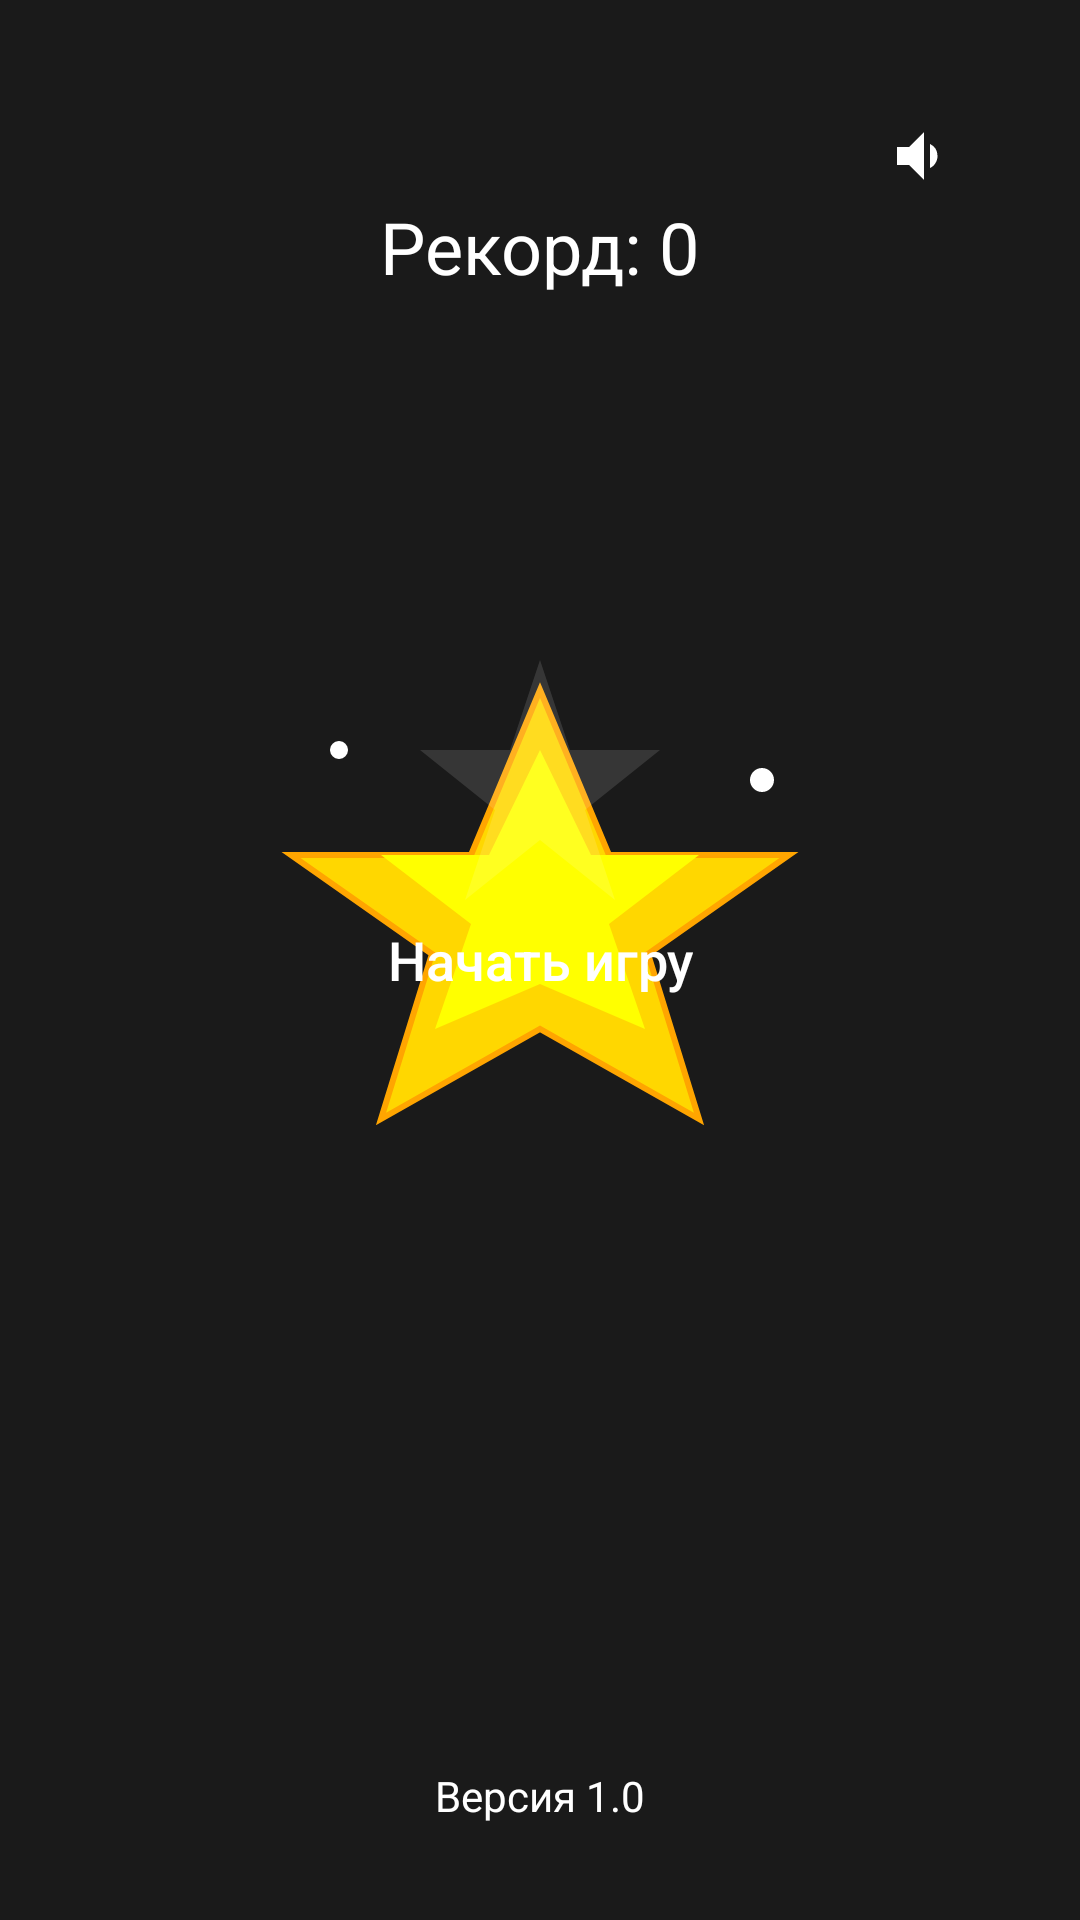

Icons on this 1080*1920 Android screen, each with its box as Rect(x1, y1, x2, y2):
volume on: Rect(897, 132, 938, 180)
